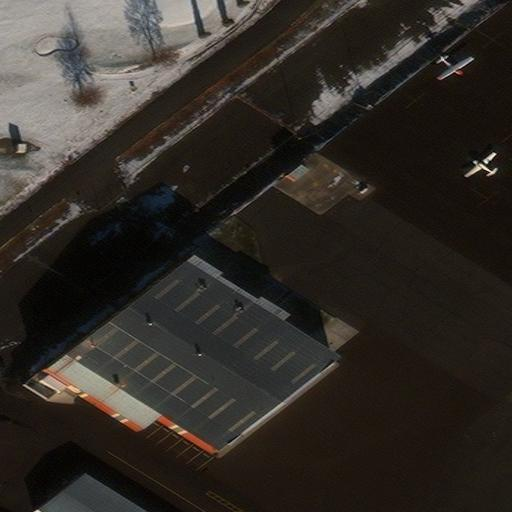Small Civil Transport: (439, 55, 475, 80), (464, 151, 494, 175)
